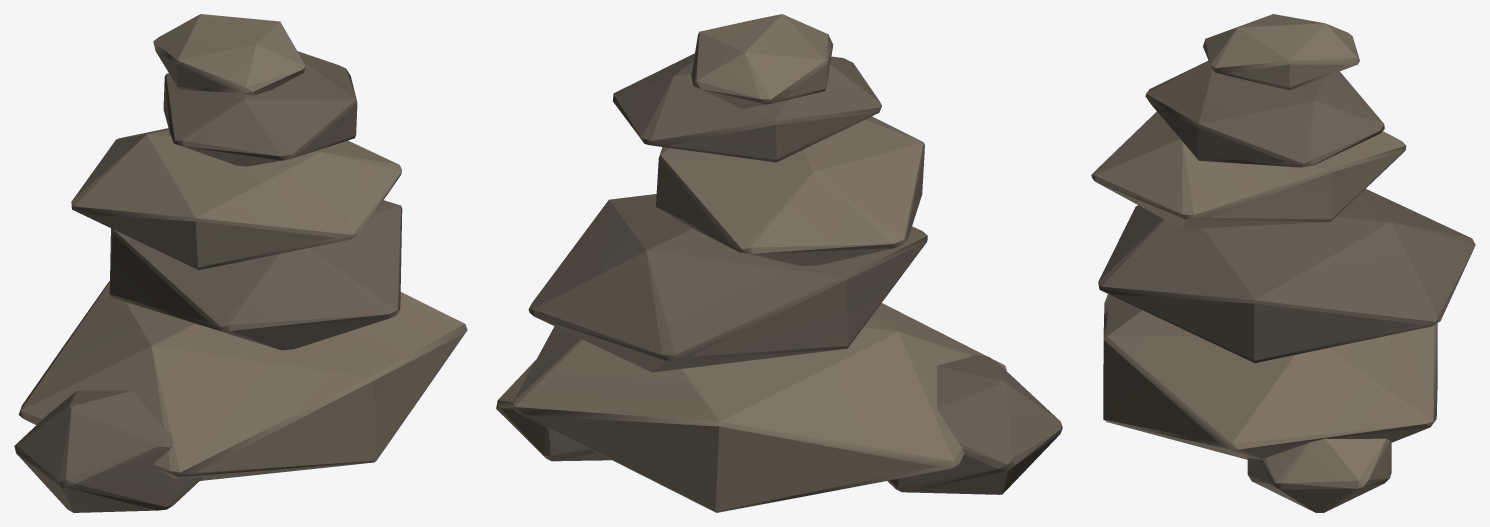
The model's file is prop_mesa_lod1.glb.
3 renders of one model, left to right at view 1: azimuth 30°, elevation 25°; view 2: azimuth 150°, elevation 25°; view 3: azimuth 270°, elevation 25°, orthographic. The views are drawn at different scales.
Parts seen in each view (by area): view 1: prop_mesa_lod1; view 2: prop_mesa_lod1; view 3: prop_mesa_lod1.
Part boxes in pixels (box(x1,y1,x2,y2)): prop_mesa_lod1: box(14, 14, 467, 512); prop_mesa_lod1: box(496, 14, 1062, 512); prop_mesa_lod1: box(1091, 14, 1475, 512).
Bounding box in the file's own units: 4.5 × 4.08 × 3.53.
